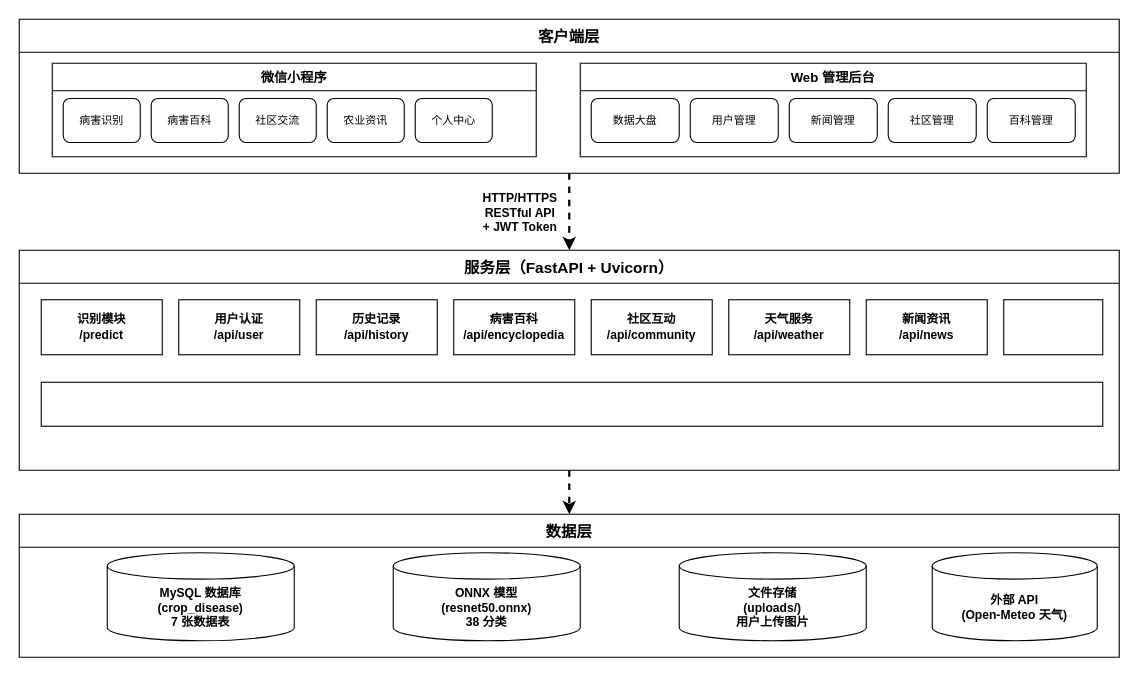
This 1139x677 diagram has some shape labels left out. Each missing label, with the centre of its shape:
"ONNX Runtime 推理引擎 | SQLAlchemy ORM | JWT 认证中间件" belongs at [571,403].
"管理后台 /admin" belongs at [1053,327].
